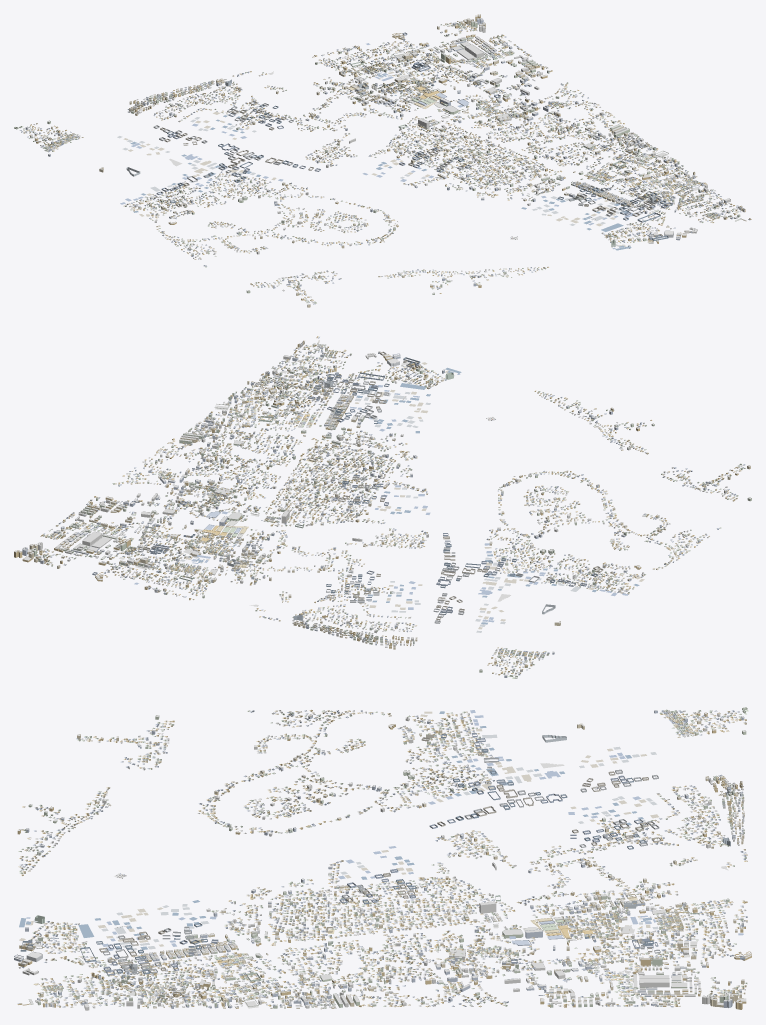
3 renders of one model, top to bottom at view 1: azimuth 30°, elevation 25°; view 2: azimuth 150°, elevation 25°; view 3: azimuth 270°, elevation 25°, orthographic. The views are drawn at different scales.
Parts seen in each view (by area): view 1: house, roof_zinc, apartment, roof_flat, factory, shop; view 2: house, roof_zinc, apartment, roof_flat, factory, shop; view 3: house, roof_zinc, apartment, roof_flat, factory, shop, glass.
Boxes of the visible parts, left/top/right/bottom form: house: left=20, top=21, right=751, bottom=304; roof_zinc: left=15, top=21, right=751, bottom=304; apartment: left=25, top=14, right=746, bottom=307; roof_flat: left=26, top=14, right=746, bottom=305; factory: left=153, top=32, right=689, bottom=240; shop: left=14, top=33, right=699, bottom=237; house: left=31, top=336, right=745, bottom=675; roof_zinc: left=32, top=336, right=745, bottom=678; apartment: left=14, top=340, right=751, bottom=677; roof_flat: left=14, top=341, right=751, bottom=675; factory: left=77, top=351, right=603, bottom=623; shop: left=79, top=353, right=517, bottom=678; house: left=18, top=709, right=747, bottom=1007; roof_zinc: left=17, top=710, right=748, bottom=1007; apartment: left=14, top=710, right=751, bottom=1010; roof_flat: left=14, top=710, right=751, bottom=1008; factory: left=20, top=733, right=745, bottom=981; shop: left=14, top=707, right=751, bottom=1006; glass: left=35, top=735, right=730, bottom=981.
Bounding box in the file's own units: 1.4e+08 × 1880051 × 1.47e+08.
